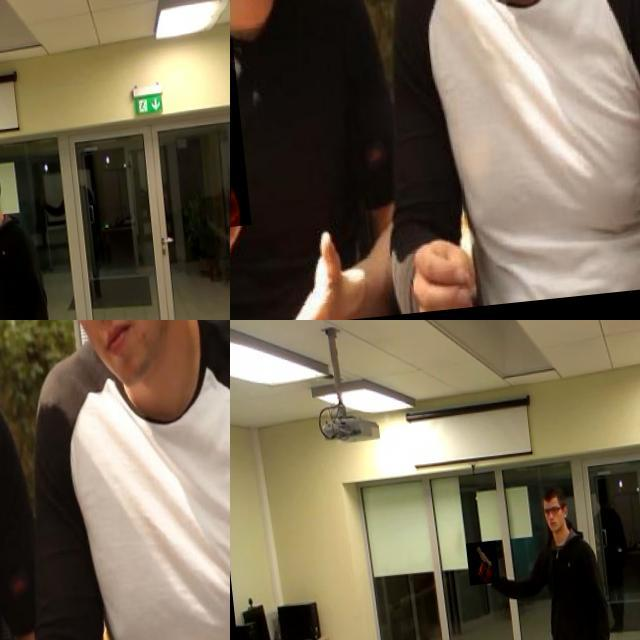-: (0, 439, 51, 640), (230, 41, 282, 235)
gun-knife-thesis - v11 Yolov5 augmented: (459, 547, 494, 591), (0, 226, 19, 282)
